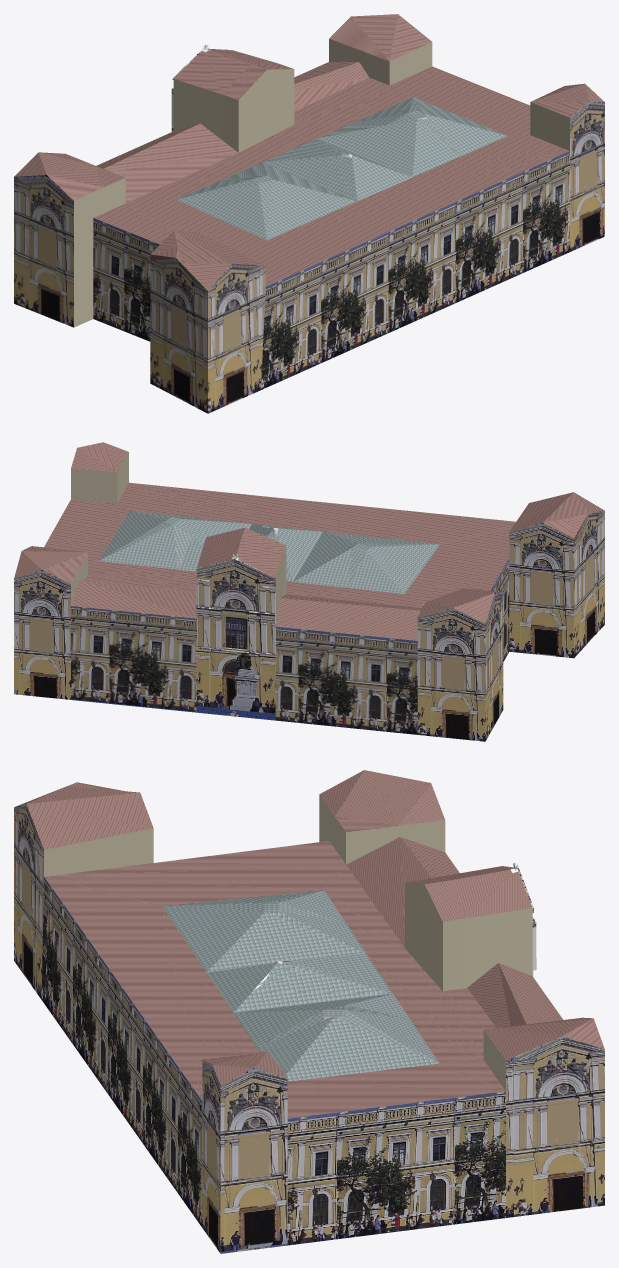
Rendered from casa_central_uchile.glb.
The picture shows the model from 3 angles, top to bottom: view 1: azimuth 30°, elevation 25°; view 2: azimuth 150°, elevation 25°; view 3: azimuth 270°, elevation 25°; orthographic projection. The views are drawn at different scales.
Parts seen in each view (by area): view 1: casa_central_uchile; view 2: casa_central_uchile; view 3: casa_central_uchile.
Boxes of the visible parts, <box> form: casa_central_uchile: <box>14,14,604,413</box>; casa_central_uchile: <box>14,442,604,741</box>; casa_central_uchile: <box>14,770,604,1253</box>.
Bounding box in the file's own units: 92.04 × 29.83 × 73.42.
Materials: 10 (7 with a texture image).
